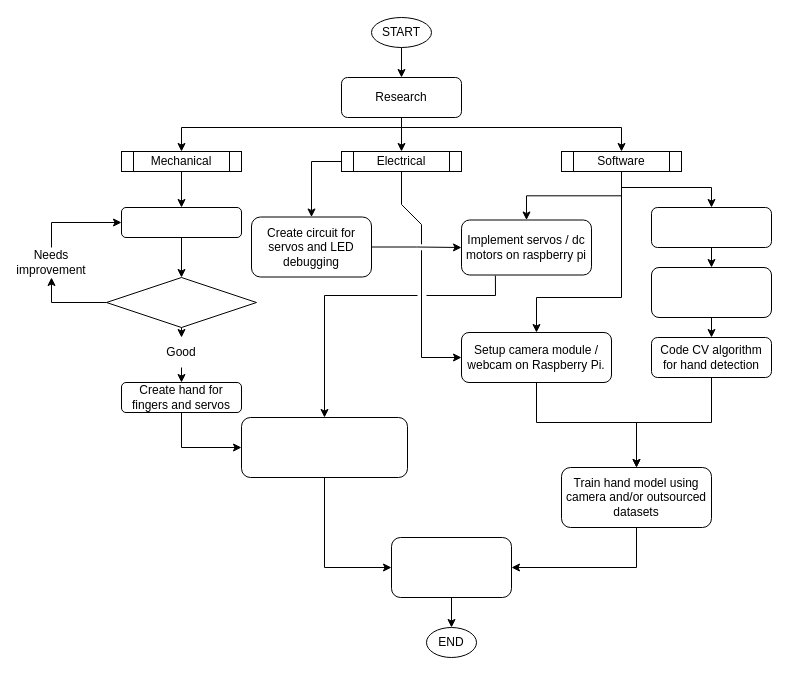
Some shapes in this 789 by 675 pixel diagram are drawn without their labels. Here are the shapes that lost their labels. From the top down, the centre of each, then its label:
(181,222): Design finger joints
(711,227): Setup OpenCV on Raspberry Pi
(181,302): Test finger agility
(711,292): Create mathematic model for hand position
(324,447): Integrate parts of hand and tune design components as necessary.
(451,567): Combine and test design. Adjust and debug as needed.
